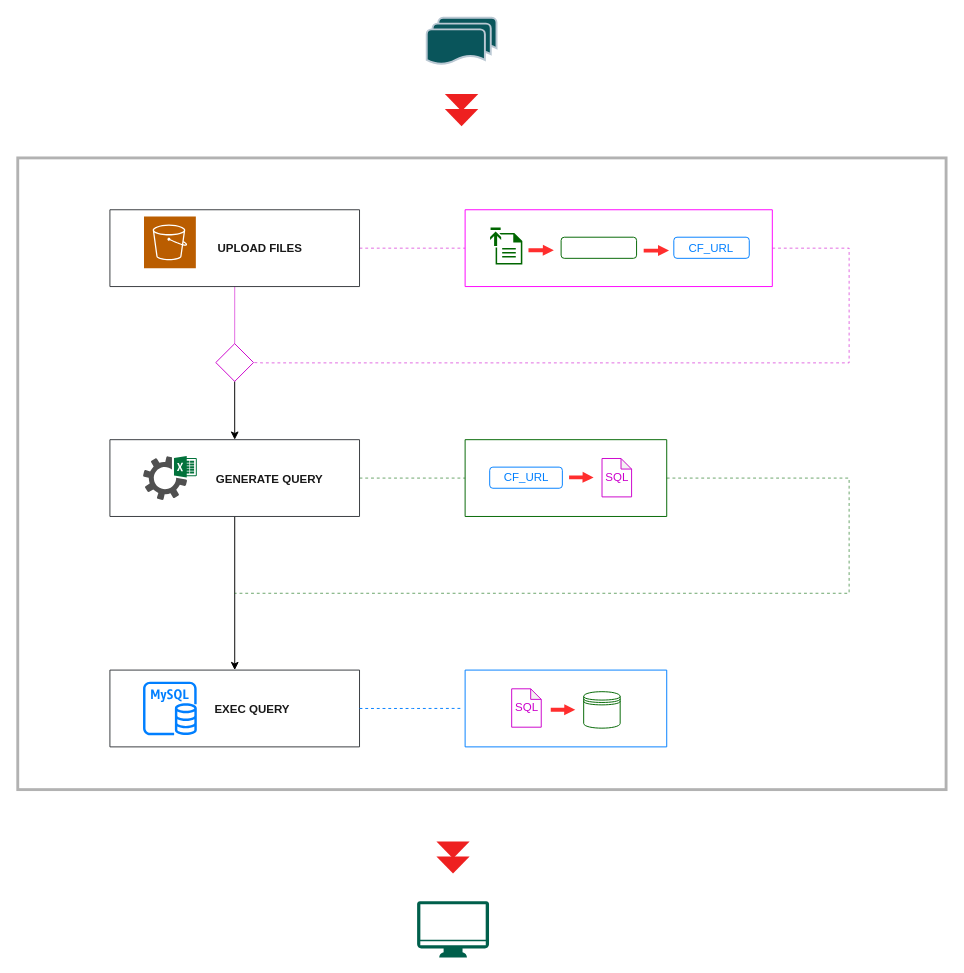
The diagram is 964 pixels wide and 973 high, and some of its shapes have lost their labels. The shapes that lost their labels are listed below. From the top down, each one's centre as x and y in pixels, then its label:
At (169,249): "Amazon S3".
At (598,247): "S3_URL".
